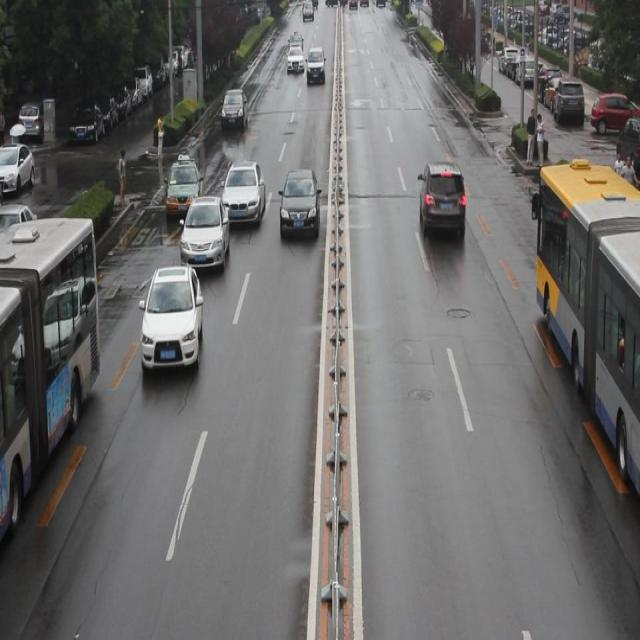car: (141, 266, 202, 378), (417, 163, 466, 240), (182, 198, 229, 278), (221, 162, 266, 223), (279, 171, 319, 237), (165, 153, 200, 217), (220, 88, 248, 129)
van: (529, 168, 640, 491), (0, 218, 100, 536)
